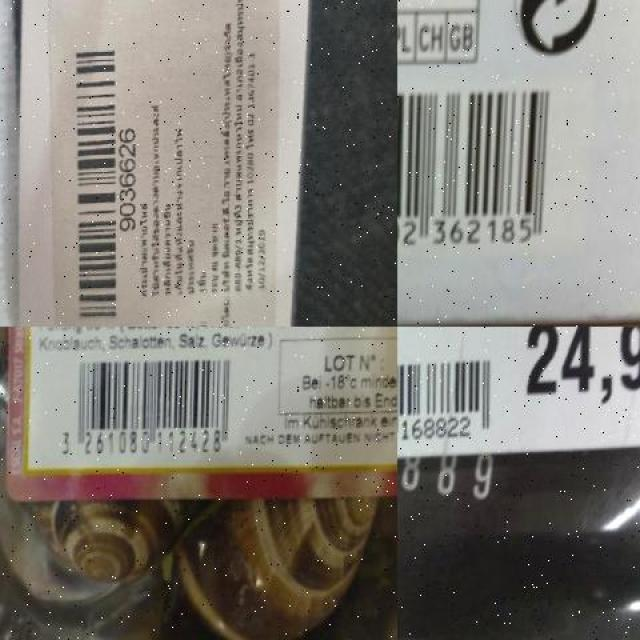Barcode: (397, 75, 591, 265), (50, 349, 238, 467), (65, 33, 140, 327), (397, 352, 503, 453)
